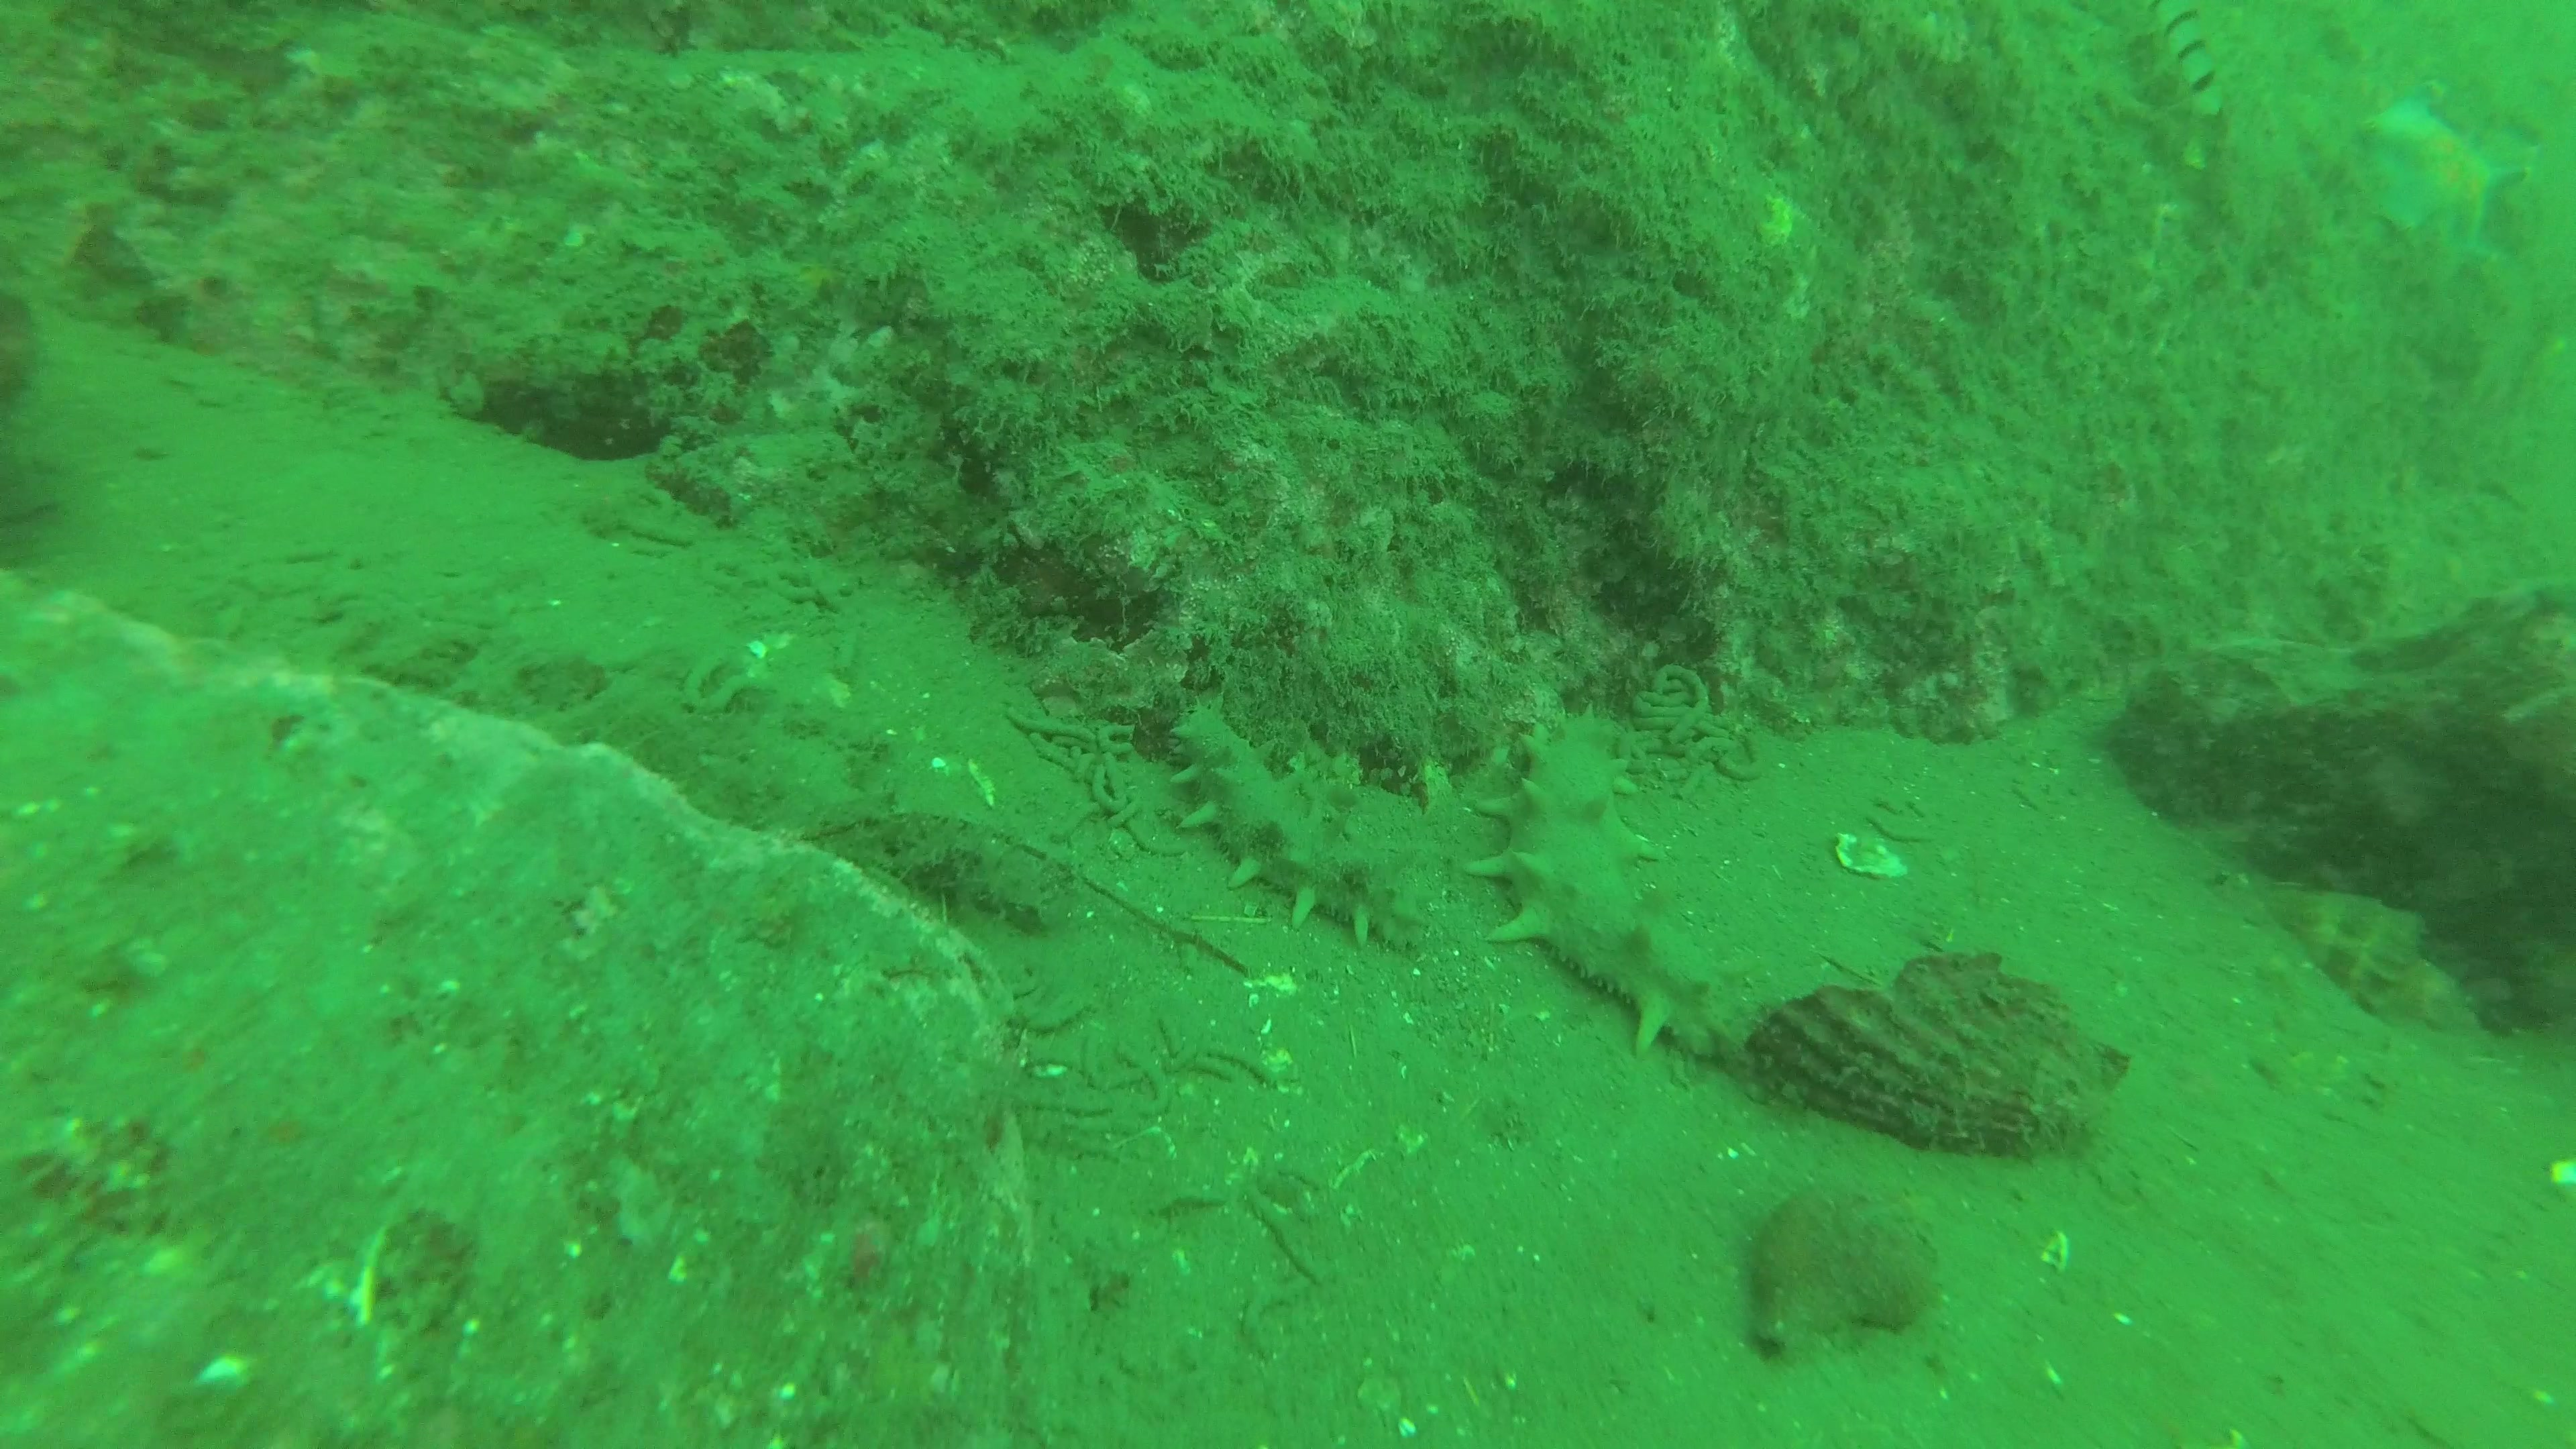holothurian: (1468, 702, 1752, 1081), (1164, 686, 1435, 968)
starfish: (2351, 92, 2541, 274)
